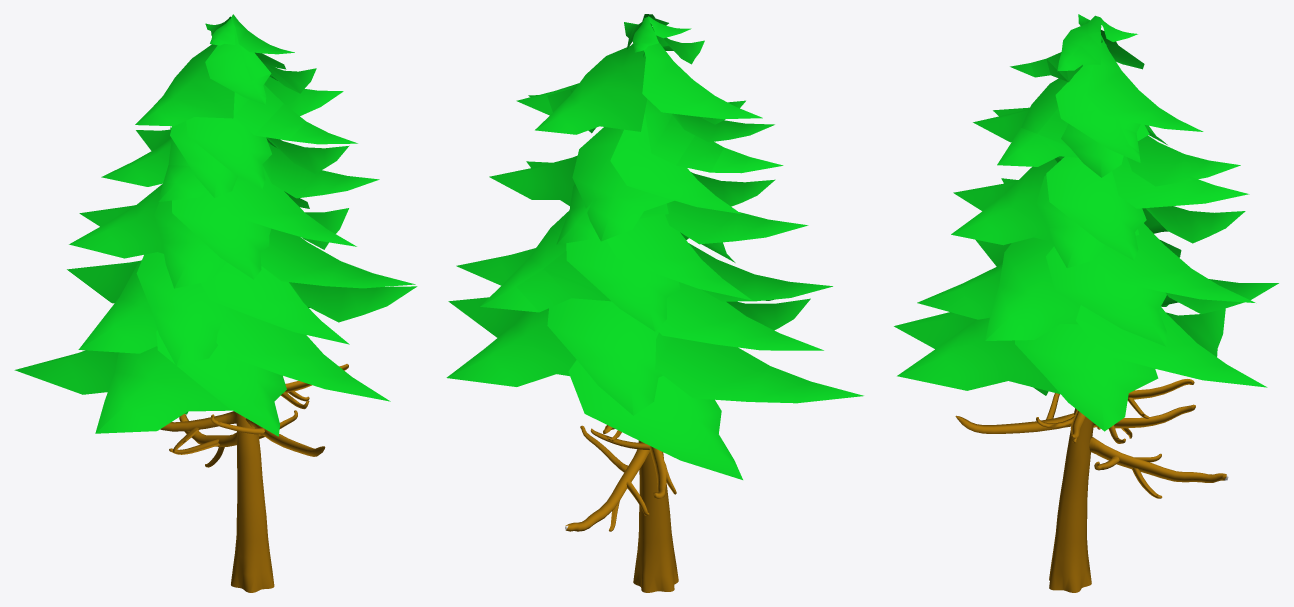
The model's file is pohon pinus 1 .glb.
3 renders of one model, left to right at view 1: azimuth 30°, elevation 25°; view 2: azimuth 150°, elevation 25°; view 3: azimuth 270°, elevation 25°, orthographic. The views are drawn at different scales.
Visible parts, largest first — view 1: Pine_1; view 2: Pine_1; view 3: Pine_1.
Part boxes in pixels (left/top/right/bottom): Pine_1: left=14, top=14, right=417, bottom=592; Pine_1: left=446, top=14, right=863, bottom=592; Pine_1: left=894, top=14, right=1278, bottom=592.
Bounding box in the file's own units: 4.94 × 7.32 × 4.54.
